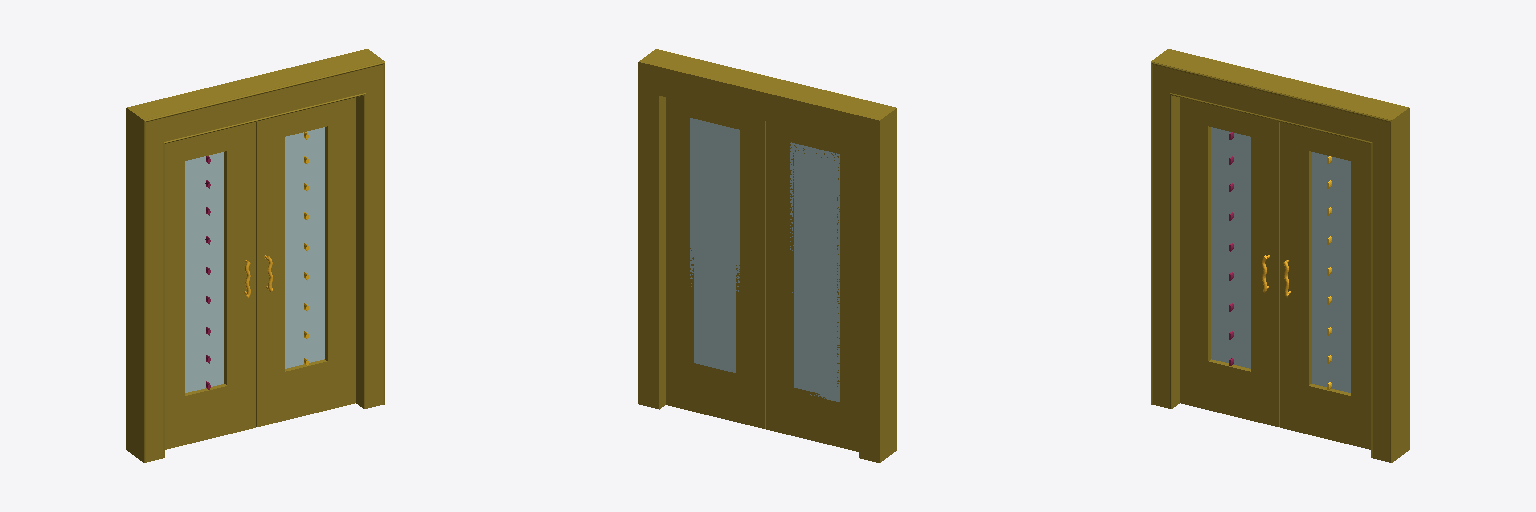
Rendered from Puerta.obj.
3 renders of one model, left to right at view 1: azimuth 30°, elevation 25°; view 2: azimuth 150°, elevation 25°; view 3: azimuth 330°, elevation 25°, orthographic.
Visible parts, largest first — view 1: Loft01; view 2: Loft01; view 3: Loft01.
Boxes of the visible parts, <box> form: Loft01: <box>126,49,384,462</box>; Loft01: <box>638,49,896,462</box>; Loft01: <box>1151,49,1409,462</box>.
Size of the model in its own units: 55822 by 75749 by 7177.